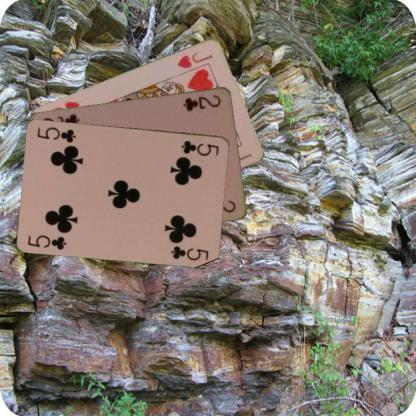2c: (181, 92, 222, 112)
5c: (179, 138, 220, 157), (26, 232, 68, 250)
Jh: (174, 50, 214, 69)
